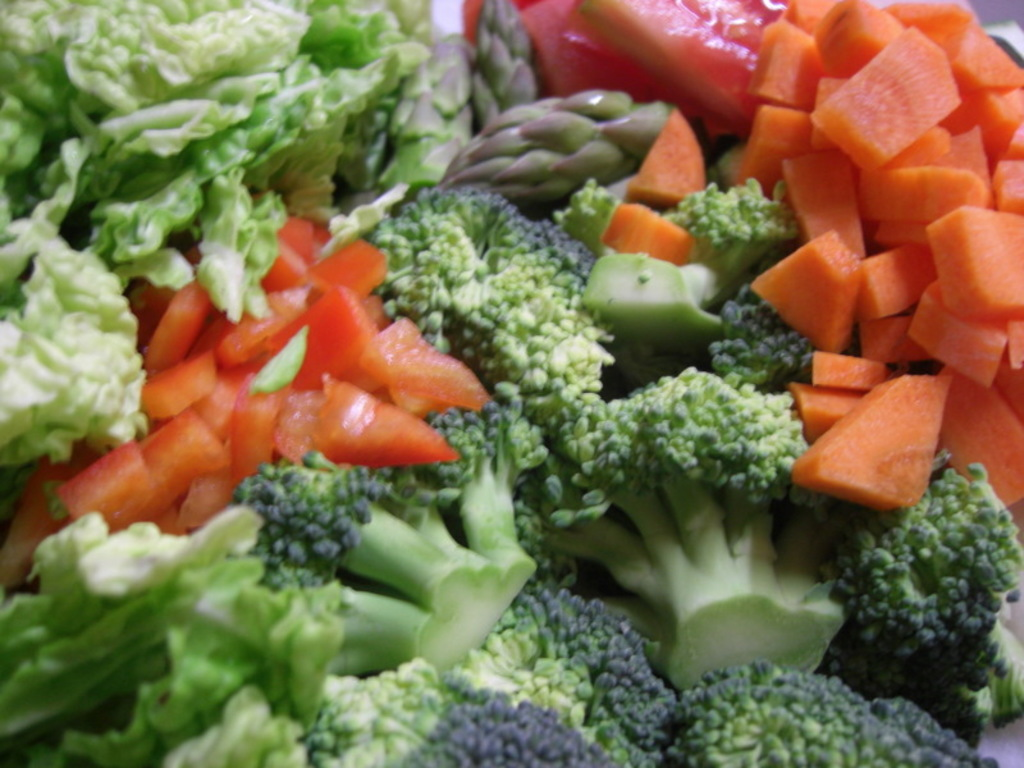Carrot: (737, 0, 1024, 516), (627, 106, 708, 207), (602, 199, 694, 267)
